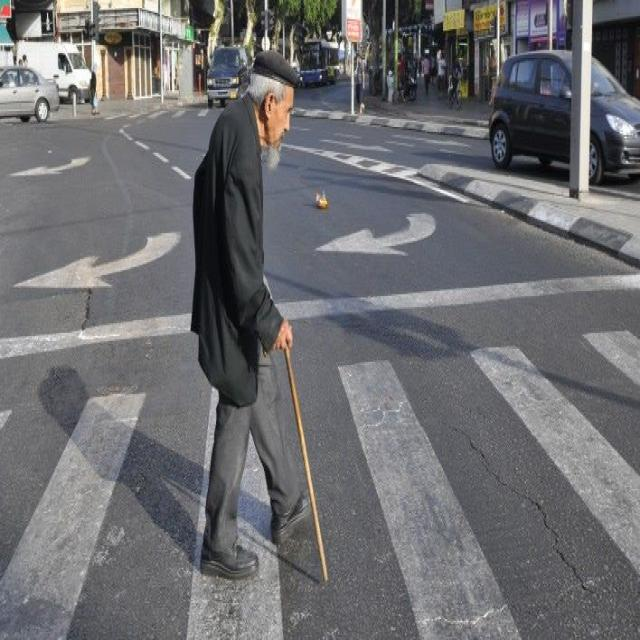idoso em pe: (178, 38, 320, 586)
